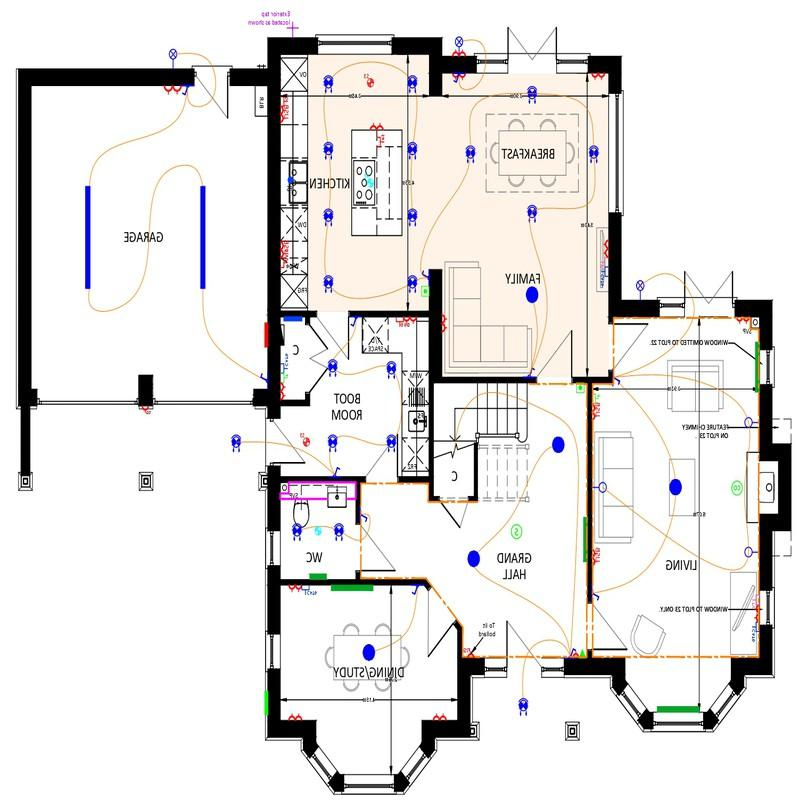BT Entry Point: (578, 640, 586, 662)
Cat 6 Data Socket: (594, 266, 610, 288), (299, 585, 320, 597), (748, 621, 760, 641), (279, 354, 290, 374)
Ceiling Mounted Continuous Extract Fan With Boost Mode Activated By Light Switch: (311, 523, 326, 539)
Ceiling Mounted Continuous Extract Fan With Local Boost Switch: (359, 70, 380, 91), (295, 430, 317, 449)
Co-Ax TV Socket: (595, 255, 610, 268), (749, 590, 760, 605)
Consumer Unit: (279, 322, 289, 349)
Double Socket: (440, 310, 456, 334), (159, 81, 184, 96), (733, 311, 753, 329), (590, 69, 609, 86), (746, 603, 761, 623), (365, 119, 389, 131), (425, 710, 451, 720), (597, 236, 610, 256), (286, 711, 305, 722), (278, 383, 289, 401), (450, 72, 473, 80), (288, 582, 301, 595), (450, 49, 471, 57), (404, 315, 420, 325)
Electric Meter Box: (261, 319, 270, 356)
External Wall Light: (630, 279, 652, 299), (451, 34, 470, 57), (166, 46, 183, 66)
Fused spur: (461, 641, 479, 659)
Gas Meter Box: (260, 683, 270, 723)
Hob Switch: (391, 314, 405, 331), (275, 95, 293, 104)
Internal Wall Light: (744, 538, 759, 572), (742, 414, 759, 440), (592, 480, 609, 499)
Light Switch: (321, 460, 355, 477), (520, 364, 540, 378), (449, 69, 462, 88), (613, 372, 625, 392), (349, 316, 365, 330), (591, 587, 603, 605), (178, 83, 194, 96), (408, 585, 424, 597), (359, 510, 370, 527), (259, 368, 268, 386), (420, 268, 429, 283), (564, 646, 576, 656)
Low Energy Downlighter: (402, 203, 432, 227), (519, 81, 545, 108), (317, 136, 337, 170), (404, 139, 428, 166), (511, 694, 534, 721), (230, 430, 250, 461), (317, 267, 339, 295), (462, 141, 483, 169), (324, 355, 344, 384), (403, 72, 427, 94), (332, 522, 355, 543), (524, 204, 545, 227), (587, 143, 603, 173), (327, 429, 343, 459), (384, 429, 399, 461), (321, 69, 337, 97), (319, 206, 337, 230), (403, 269, 419, 294), (290, 522, 306, 544), (384, 359, 398, 383)
Low Energy Pendant Light: (544, 429, 571, 457), (356, 643, 387, 663), (461, 546, 483, 572), (664, 477, 686, 501), (523, 283, 544, 305)
Mains Wired Smoke Detector: (511, 522, 523, 542)
Outside Socket: (134, 405, 154, 419)
Outside Tap: (249, 9, 309, 37)
Oven Switch: (375, 131, 389, 151), (279, 259, 293, 272)
Programmable Room Thermostat: (573, 381, 587, 397), (421, 285, 430, 303)
Radiator: (749, 339, 761, 397), (328, 583, 377, 596), (578, 512, 588, 571), (652, 702, 707, 711), (303, 571, 334, 578)
Recirculating Extractor Fan: (360, 170, 384, 189)
Single Socket: (573, 645, 581, 661)
Telephone Socket: (277, 372, 291, 383), (591, 391, 602, 403)
Twin LED Strip Light: (189, 182, 220, 294), (78, 182, 100, 296)
USB Double Socket: (279, 105, 295, 126), (591, 543, 602, 573), (279, 238, 290, 258), (593, 401, 601, 427)
Underfloor Heating Manifold: (280, 313, 305, 322)
Water Entry Position: (286, 173, 299, 186)
